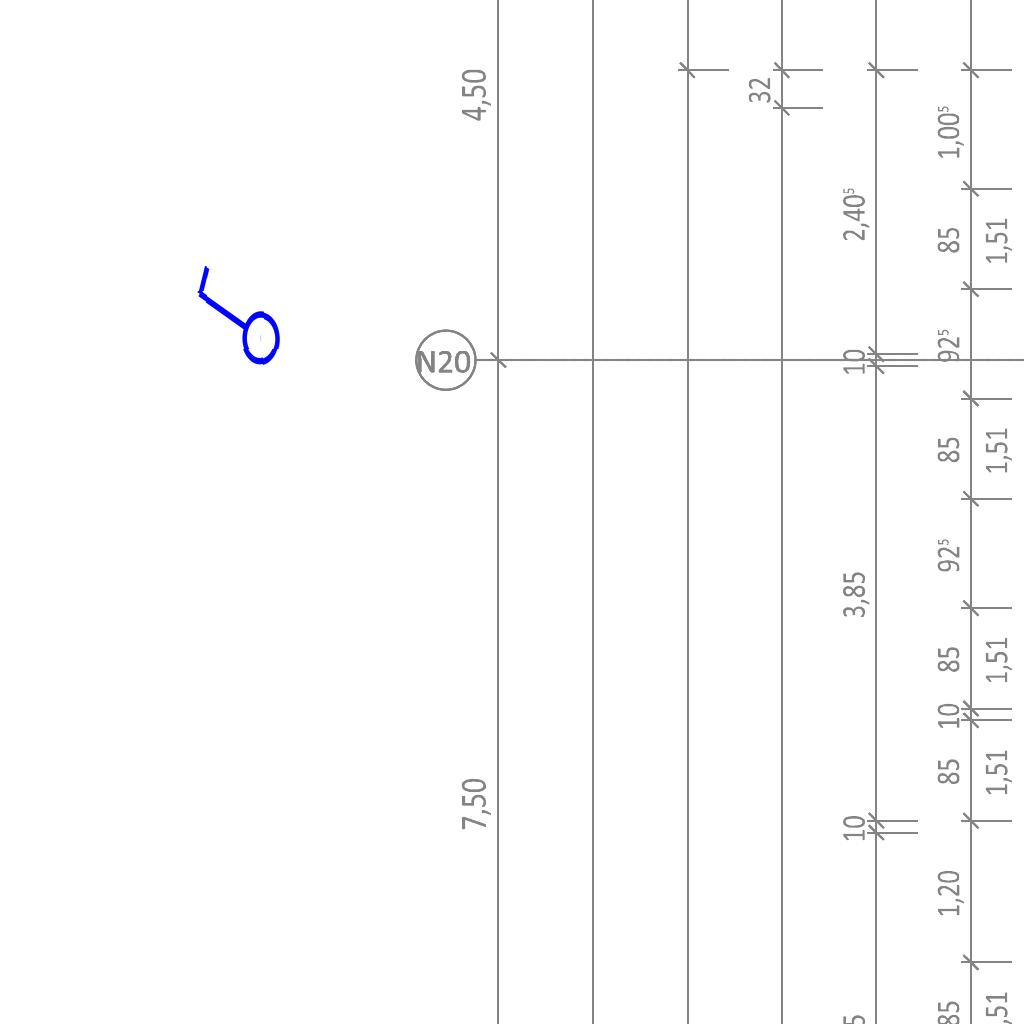Ausschalter: (186, 263, 284, 377)
